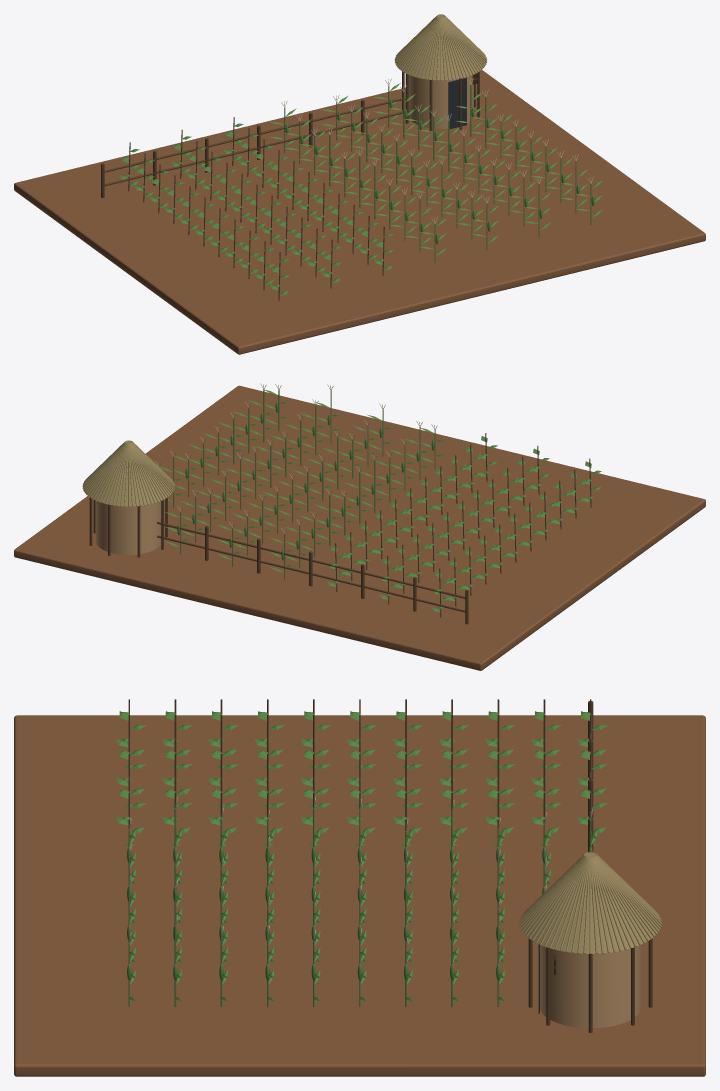
The model's file is mixed-farm.glb.
3 views of the same model, one above another, from view 1: azimuth 30°, elevation 25°; view 2: azimuth 150°, elevation 25°; view 3: azimuth 270°, elevation 25° (orthographic). The views are drawn at different scales.
Parts seen in each view (by area): view 1: Earth plot, Round earthen wall, Conical thatch roof, Fence rail, Fence rail.001, Dark doorway; view 2: Earth plot, Round earthen wall, Conical thatch roof, Fence rail, Fence rail.001; view 3: Earth plot, Round earthen wall, Conical thatch roof.
Boxes of the visible parts, bbox=[...] form: Earth plot: bbox=[14, 70, 705, 354]; Round earthen wall: bbox=[408, 75, 473, 128]; Conical thatch roof: bbox=[396, 14, 485, 80]; Fence rail: bbox=[104, 109, 412, 186]; Fence rail.001: bbox=[104, 95, 411, 172]; Dark doorway: bbox=[448, 77, 466, 129]; Earth plot: bbox=[14, 385, 705, 670]; Round earthen wall: bbox=[95, 501, 161, 554]; Conical thatch roof: bbox=[84, 441, 173, 506]; Fence rail: bbox=[157, 535, 465, 612]; Fence rail.001: bbox=[157, 521, 465, 598]; Earth plot: bbox=[14, 715, 705, 1076]; Round earthen wall: bbox=[540, 945, 641, 1028]; Conical thatch roof: bbox=[521, 853, 659, 953].
Bounding box in the file's own units: 18 × 3.93 × 15.
8 materials, 1 textured.
